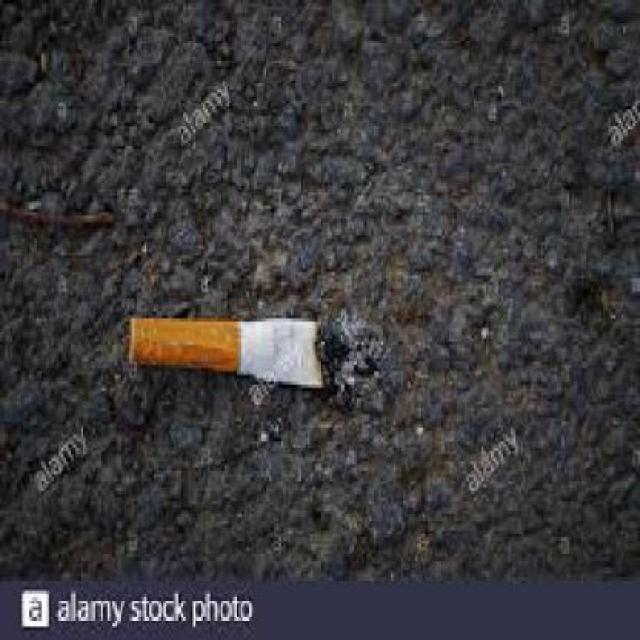cigarette: (91, 292, 369, 406)
